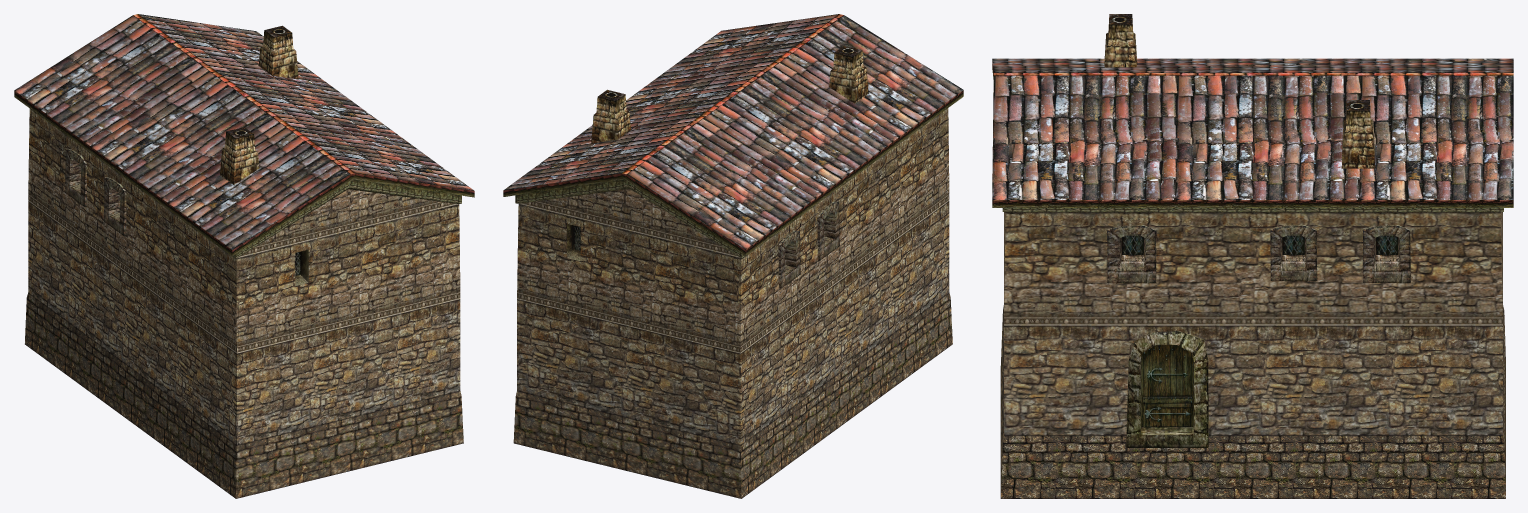
The model's file is tn5_house1.glb.
3 views of the same model, side by side, from view 1: azimuth 30°, elevation 25°; view 2: azimuth 150°, elevation 25°; view 3: azimuth 270°, elevation 25° (orthographic). The views are drawn at different scales.
Visible parts, largest first — view 1: tn5_house1-col; view 2: tn5_house1-col; view 3: tn5_house1-col.
Boxes of the visible parts, x1,y1,x2,y2 form: tn5_house1-col: [14, 14, 474, 498]; tn5_house1-col: [503, 14, 963, 498]; tn5_house1-col: [992, 14, 1513, 498].
Size of the model in its own units: 7.98 by 9.96 by 12.44.
13 materials, 13 textured.
